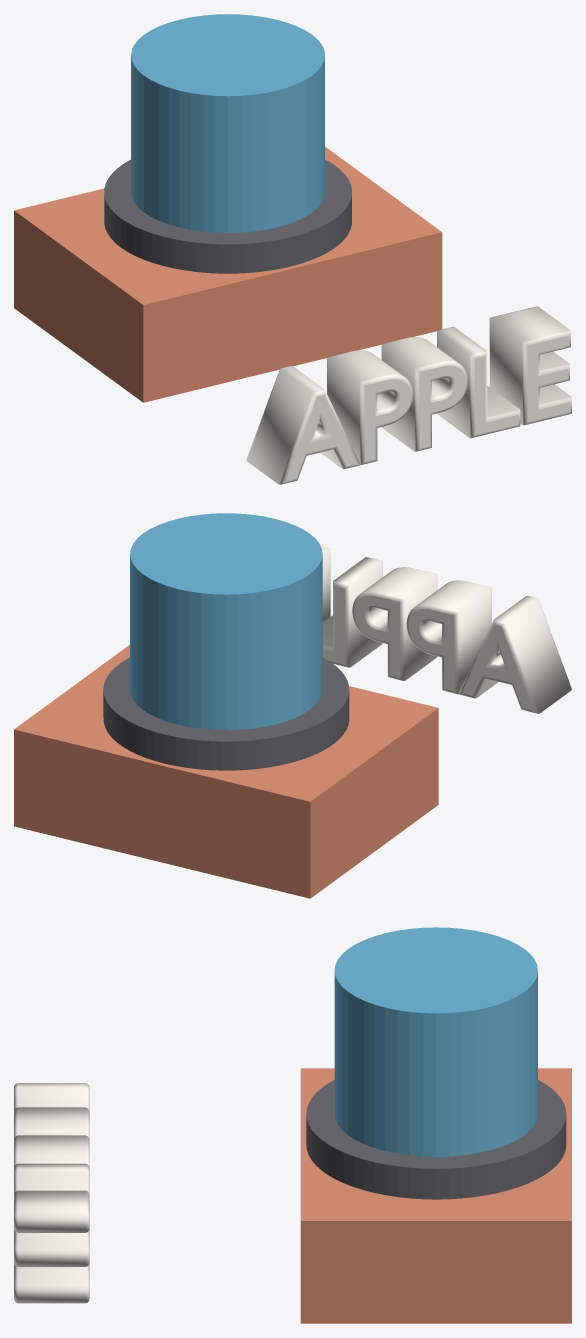
The picture shows the model from 3 angles, top to bottom: view 1: azimuth 30°, elevation 25°; view 2: azimuth 150°, elevation 25°; view 3: azimuth 270°, elevation 25°; orthographic projection. The views are drawn at different scales.
Visible parts, largest first — view 1: Rectangle, Cylinder, APPLE_Text, Circle; view 2: Rectangle, Cylinder, APPLE_Text, Circle; view 3: Cylinder, Rectangle, APPLE_Text, Circle.
Part boxes in pixels (<box>): Rectangle: <box>14,146,442,402</box>; Cylinder: <box>131,14,324,232</box>; APPLE_Text: <box>246,306,571,484</box>; Circle: <box>104,159,351,273</box>; Rectangle: <box>14,645,438,898</box>; Cylinder: <box>130,513,322,730</box>; APPLE_Text: <box>320,546,571,713</box>; Circle: <box>103,657,349,770</box>; Cylinder: <box>334,927,537,1156</box>; Rectangle: <box>300,1068,571,1323</box>; APPLE_Text: <box>14,1083,89,1303</box>; Circle: <box>306,1080,566,1199</box>.
Size of what is drawn, in the model's own units: 3.2 by 2.7 by 4.94.
